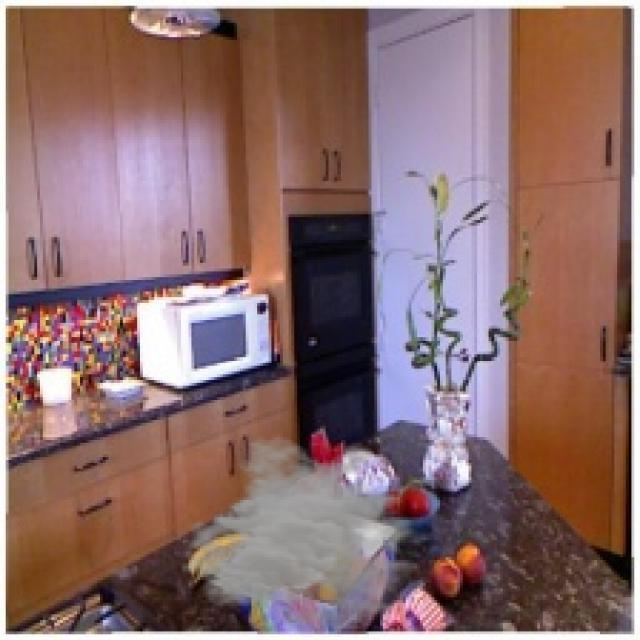Smoke: (177, 434, 440, 637)
